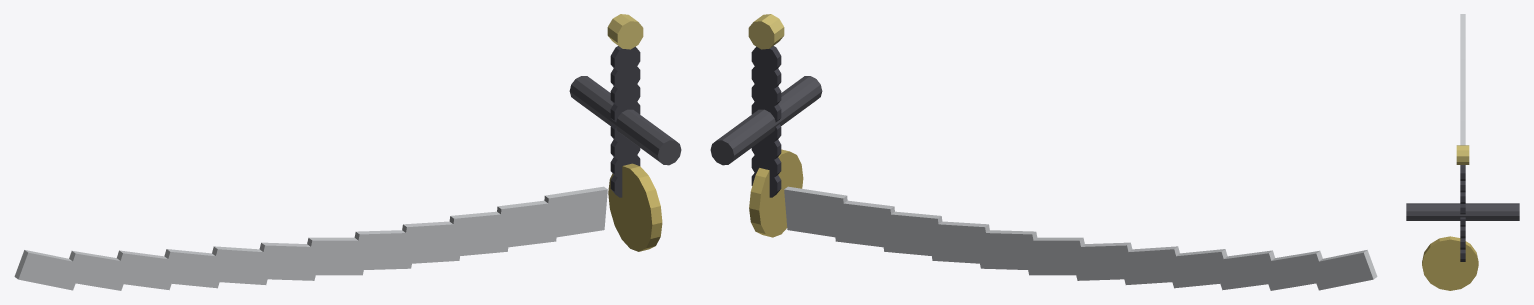
File: gumus_katana.glb
3 renders of one model, left to right at view 1: azimuth 30°, elevation 25°; view 2: azimuth 150°, elevation 25°; view 3: azimuth 270°, elevation 25°, orthographic. The views are drawn at different scales.
Parts seen in each view (by area): view 1: geometry_0; view 2: geometry_0; view 3: geometry_0.
Part boxes in pixels (x1,y1,x2,y2): geometry_0: [14, 14, 681, 290]; geometry_0: [710, 14, 1377, 290]; geometry_0: [1406, 14, 1519, 290].
Bounding box in the file's own units: 0.7333 × 0.251 × 0.18.
